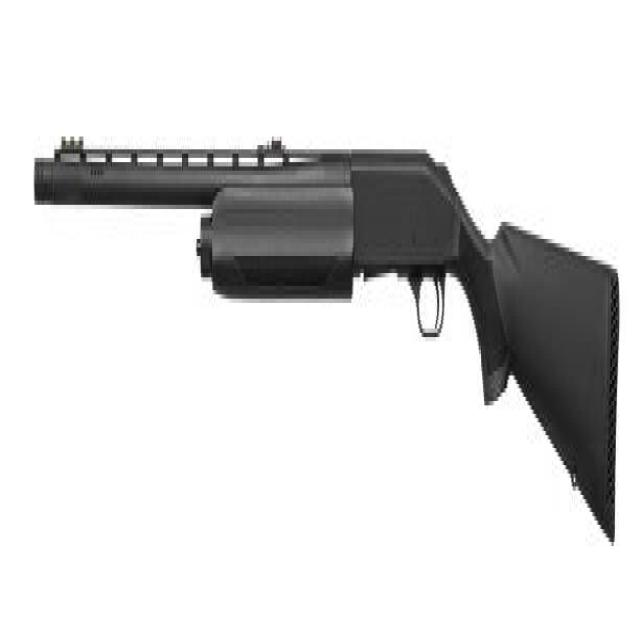rifle: (32, 122, 623, 566)
